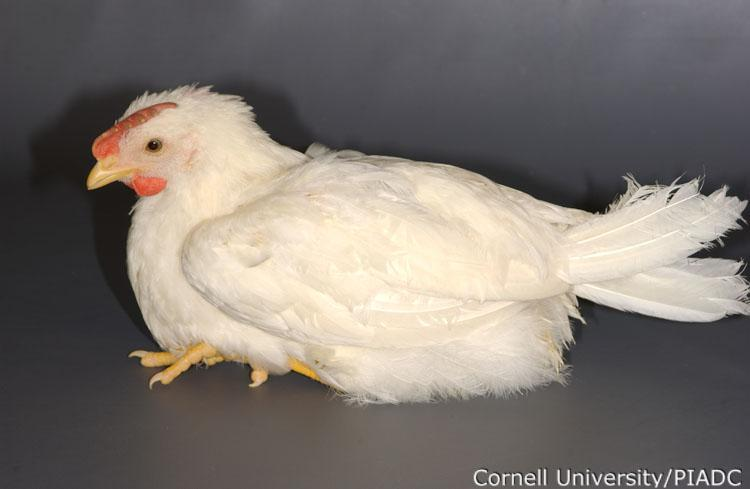AbNormal: (87, 85, 750, 406)
